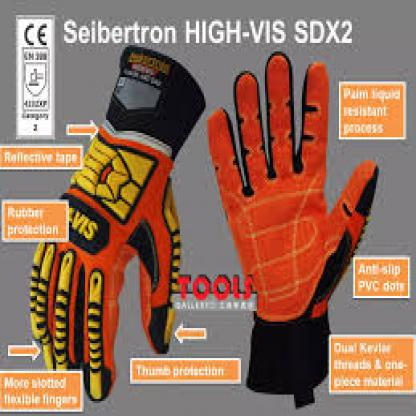with_gloves: (29, 43, 207, 403), (207, 49, 381, 397)
